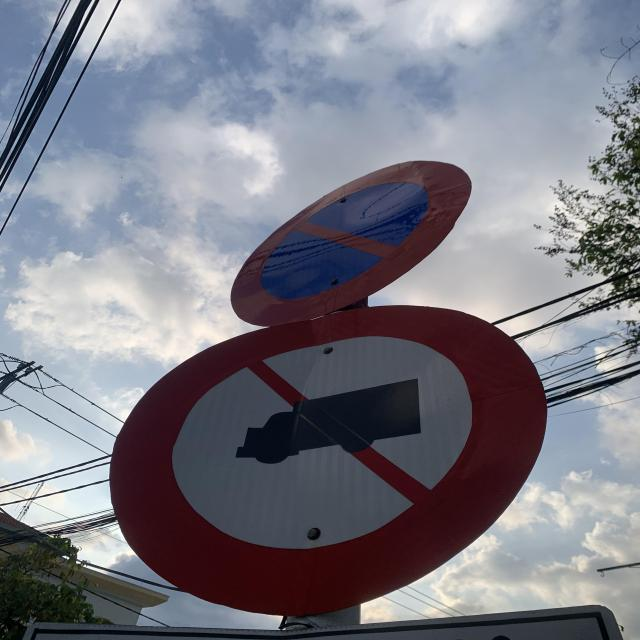Cam_Dau_Xe: (229, 160, 471, 325)
Cam_Xe_Tai: (110, 306, 544, 613)
